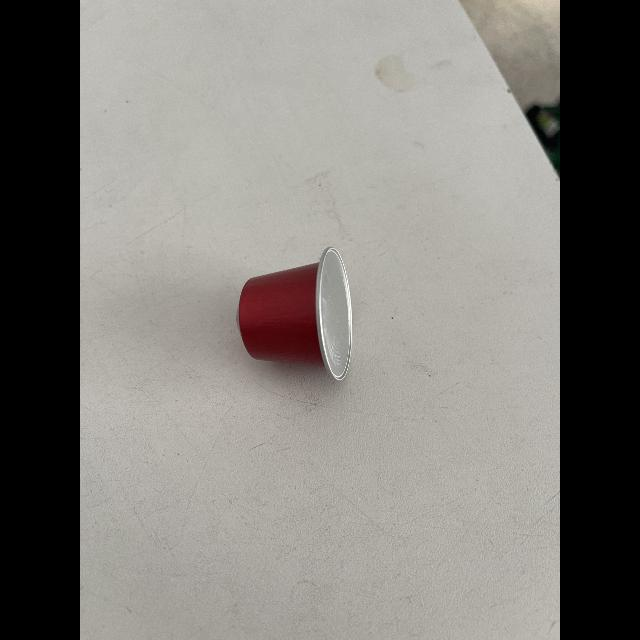intact_capsule: (232, 240, 372, 384)
